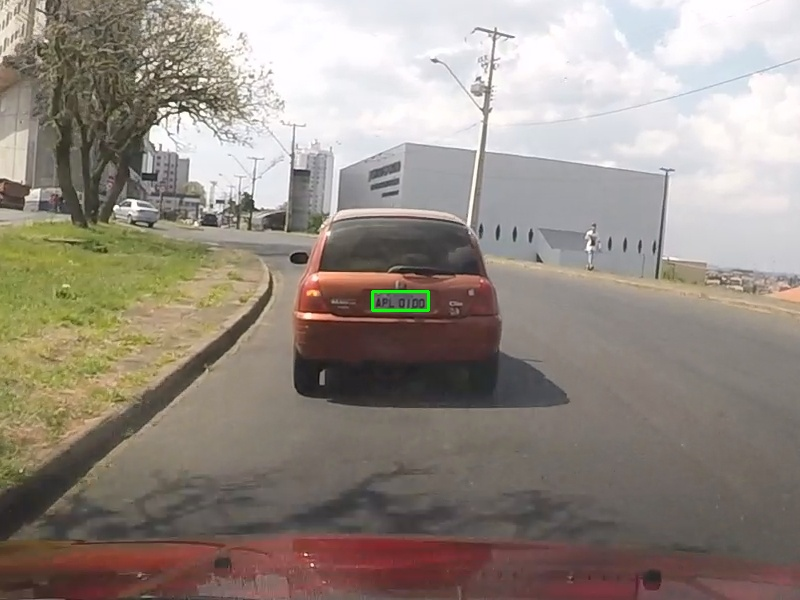placa: (372, 291, 428, 310)
